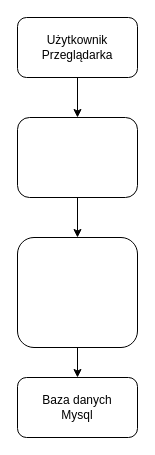
This 155x455 diagram has some shape labels left out. Here are the shapes that lost their labels. From the top down, the centre of each, then its label:
At (77,157): "Serwer WWW (Nginx/Apache) -Obsługa statycznych plików - Reverse Proxy".
At (77,292): "Serwer aplikacji Java SpringBOOT/Tomcat - Aplikacja Java - Serwisy RESTful".
